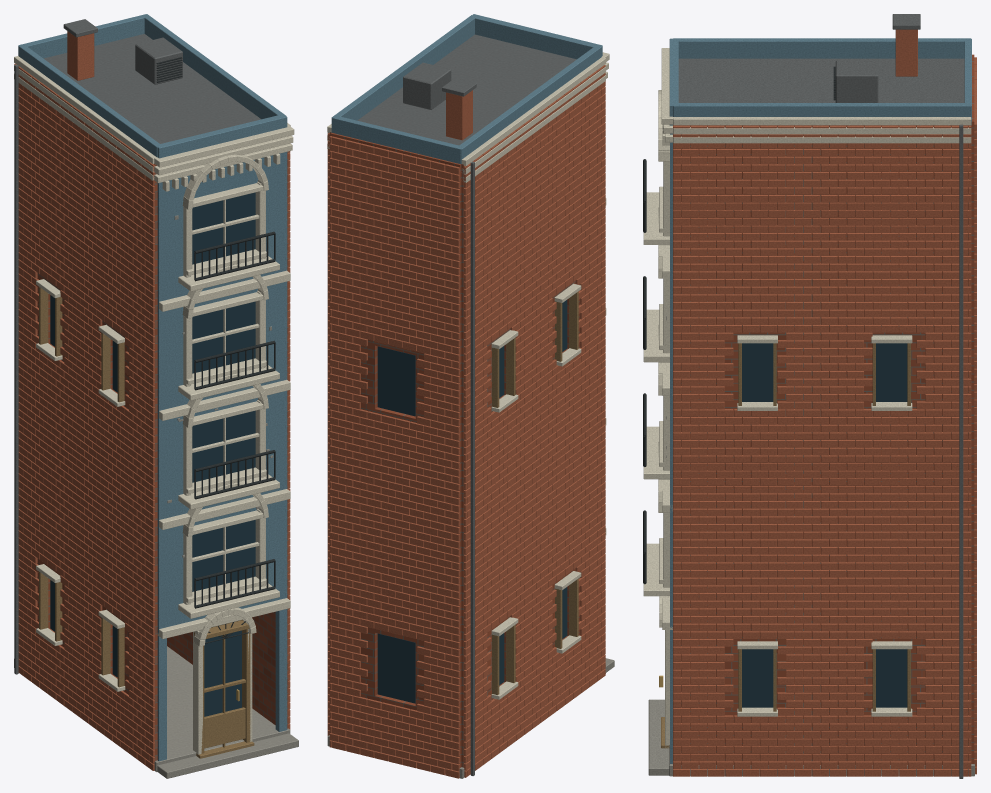
File: OFFC1_lod0.glb
3 views of the same model, side by side, from view 1: azimuth 30°, elevation 25°; view 2: azimuth 150°, elevation 25°; view 3: azimuth 270°, elevation 25° (orthographic). The views are drawn at different scales.
Parts seen in each view (by area): view 1: OFFC1_LOD0; view 2: OFFC1_LOD0; view 3: OFFC1_LOD0.
Boxes of the visible parts, box(x1,y1,x2,y2) form: OFFC1_LOD0: box(14, 14, 298, 778); OFFC1_LOD0: box(327, 14, 614, 778); OFFC1_LOD0: box(643, 14, 976, 778).
Bounding box in the file's own units: 3.71 × 15.65 × 6.72.
Materials: 13 (10 with a texture image).
